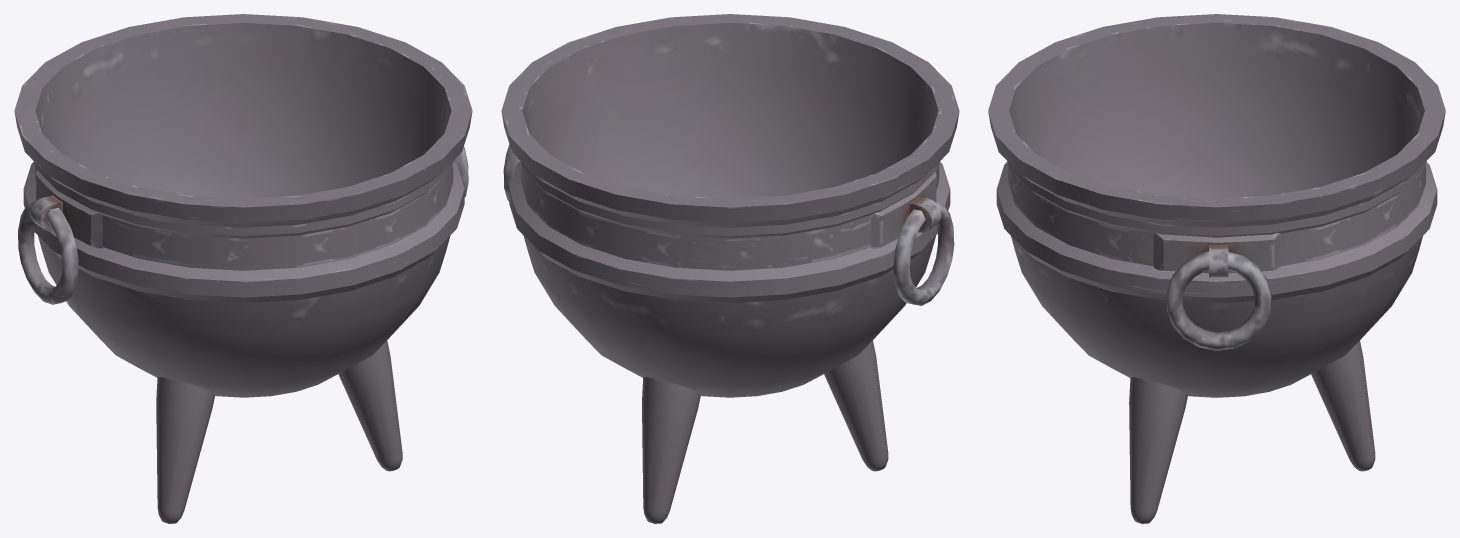
File: Cauldron.gltf
3 views of the same model, side by side, from view 1: azimuth 30°, elevation 25°; view 2: azimuth 150°, elevation 25°; view 3: azimuth 270°, elevation 25° (orthographic).
Visible parts, largest first — view 1: Cauldron; view 2: Cauldron; view 3: Cauldron.
Boxes of the visible parts, x1=… form: Cauldron: x1=14, y1=14, x2=472, y2=523; Cauldron: x1=501, y1=14, x2=959, y2=523; Cauldron: x1=988, y1=14, x2=1445, y2=523.
Bounding box in the file's own units: 0.9891 × 0.8155 × 0.944.
Materials: 1 (1 with a texture image).
